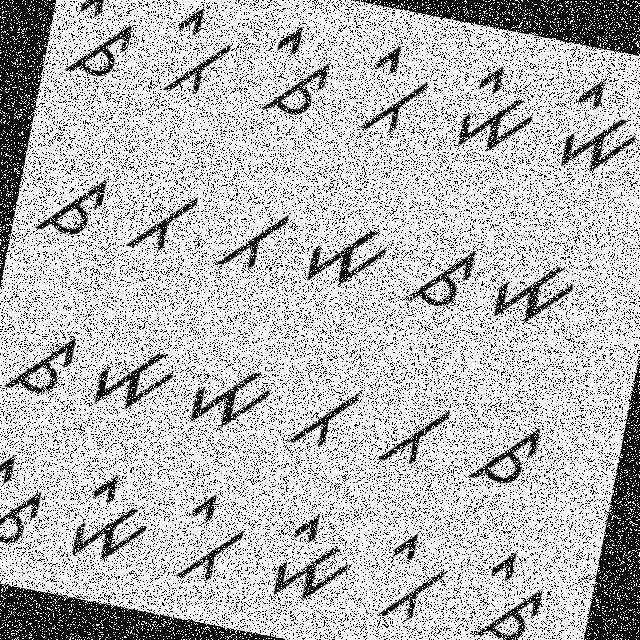ba: (212, 194, 302, 289), (366, 387, 455, 478), (120, 174, 206, 267), (279, 373, 366, 461)
bi: (160, 478, 256, 598), (352, 32, 443, 155), (368, 516, 462, 634), (158, 5, 240, 116)
ca: (24, 148, 117, 258), (394, 225, 482, 322), (0, 314, 87, 408), (462, 414, 550, 504)
ci: (252, 20, 340, 124), (54, 0, 154, 91), (467, 540, 558, 639), (0, 449, 63, 561)
ma: (480, 237, 588, 339), (178, 350, 284, 444), (297, 212, 402, 302), (82, 333, 180, 426)
mi: (258, 495, 364, 618), (56, 458, 164, 572), (443, 54, 548, 167), (544, 68, 639, 184)
